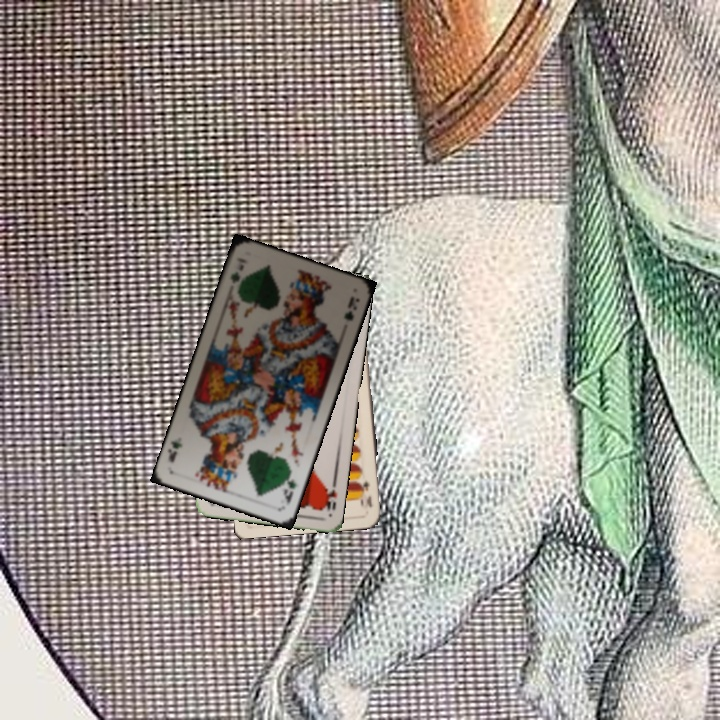E10: (355, 476, 375, 510)
GK: (279, 468, 300, 506), (226, 261, 246, 286)
HO: (319, 476, 339, 517)
